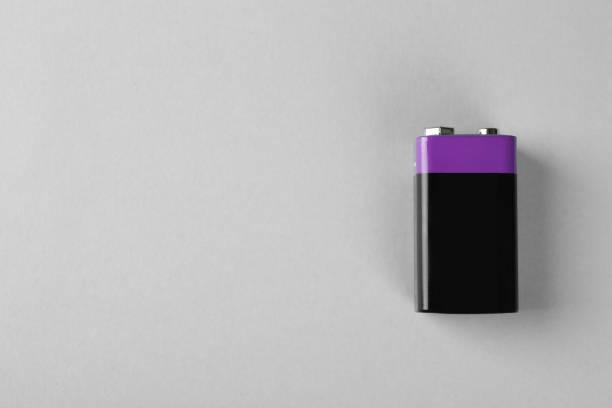9V Battery: (414, 126, 517, 315)
